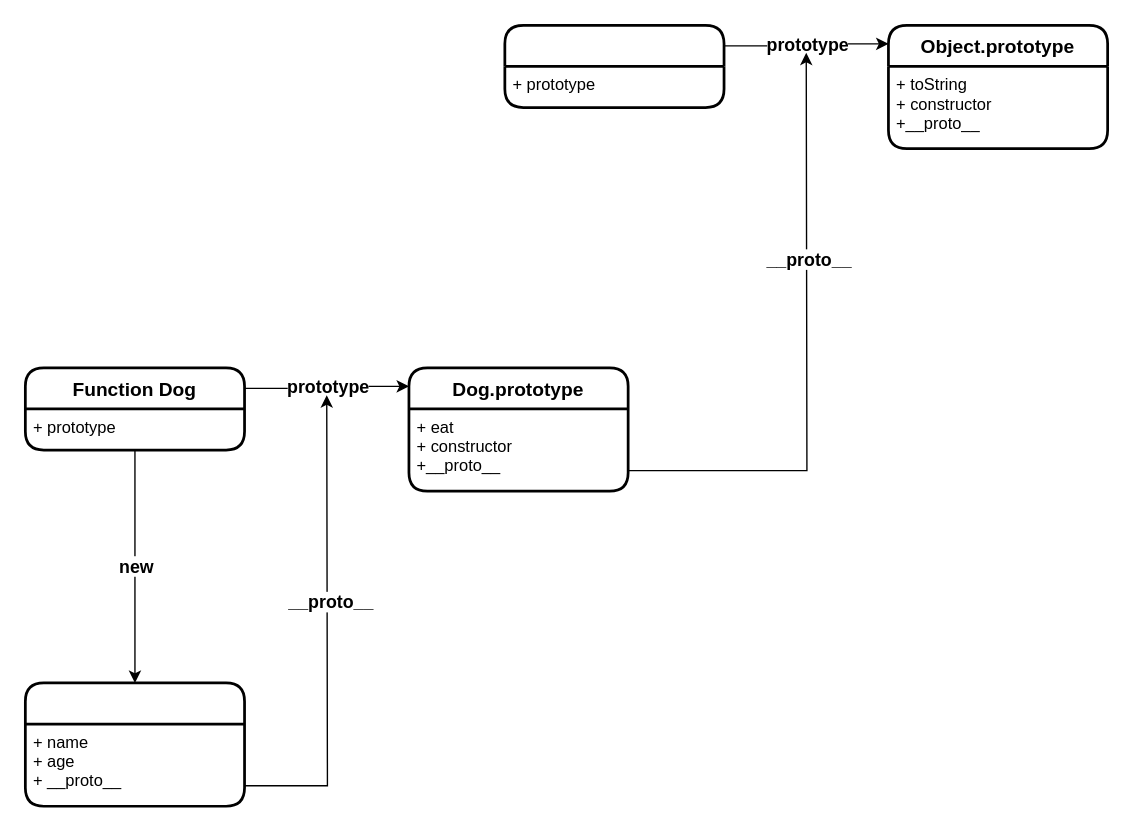
Image size: 1132x830. Some labels were removed from this diagram. The shapes that lost their labels are listed below. From the top down, each one's box as (x1, y1, x2, y2) in pixels, then its label:
(503, 23, 725, 108): Function Object
(23, 681, 245, 807): dog
